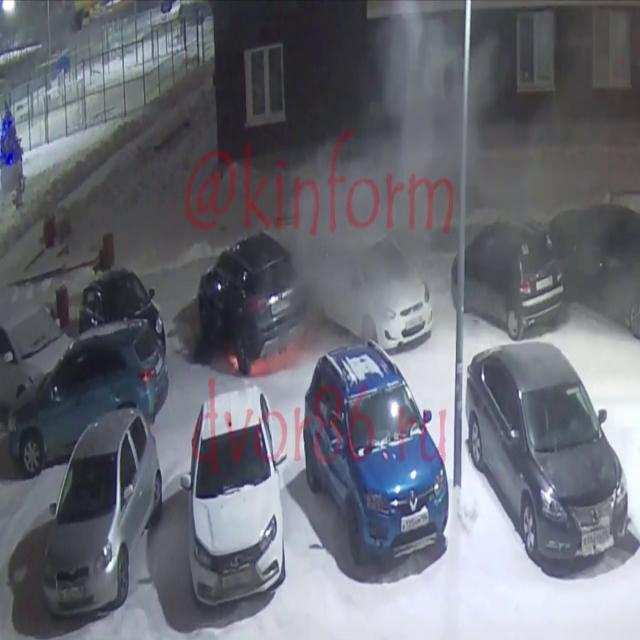Smoke: (191, 0, 526, 348)
